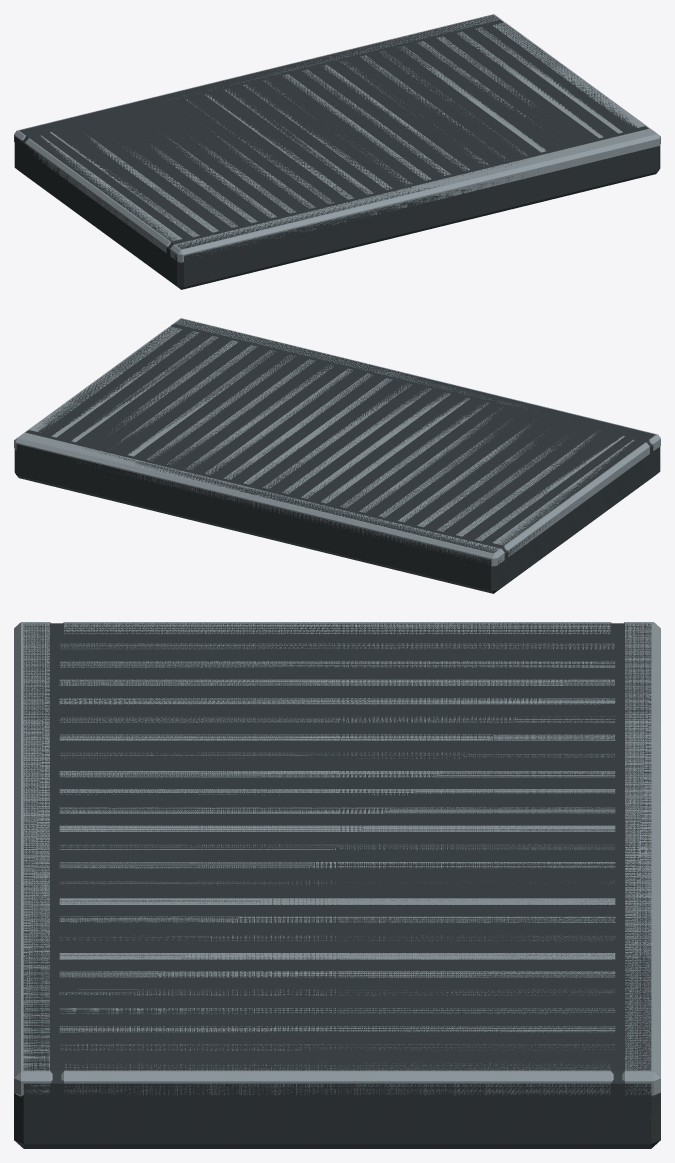
File: 05_floor_trench_grate.gltf
3 views of the same model, one above another, from view 1: azimuth 30°, elevation 25°; view 2: azimuth 150°, elevation 25°; view 3: azimuth 270°, elevation 25° (orthographic). The views are drawn at different scales.
Visible parts, largest first — view 1: 05_Cryo_Anodized_Frame, 05_Cryo_Brushed_Steel; view 2: 05_Cryo_Anodized_Frame, 05_Cryo_Brushed_Steel; view 3: 05_Cryo_Anodized_Frame, 05_Cryo_Brushed_Steel.
Boxes of the visible parts, bbox=[...] form: 05_Cryo_Anodized_Frame: bbox=[14, 15, 660, 289]; 05_Cryo_Brushed_Steel: bbox=[14, 14, 660, 262]; 05_Cryo_Anodized_Frame: bbox=[14, 319, 660, 593]; 05_Cryo_Brushed_Steel: bbox=[14, 318, 660, 566]; 05_Cryo_Anodized_Frame: bbox=[14, 623, 660, 1148]; 05_Cryo_Brushed_Steel: bbox=[14, 622, 660, 1096].
Size of the model in its own units: 2 by 0.16 by 1.2.
Materials: 2 (2 with a texture image).
